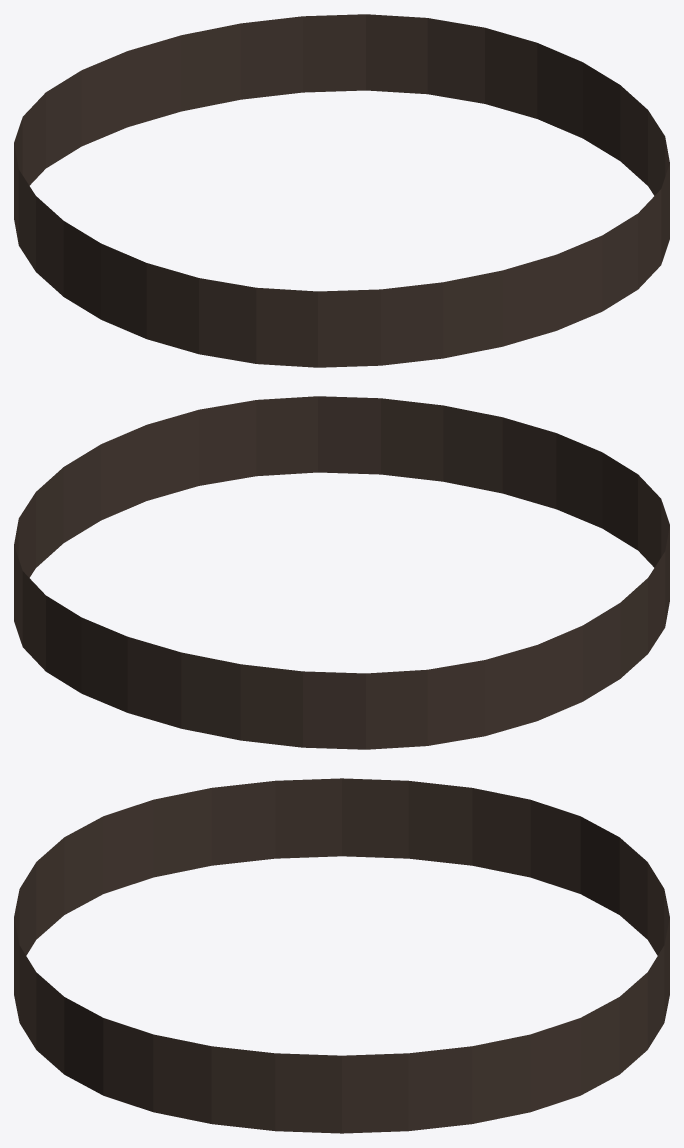
The model's file is fov_limiter2.fbx.
3 renders of one model, top to bottom at view 1: azimuth 30°, elevation 25°; view 2: azimuth 150°, elevation 25°; view 3: azimuth 270°, elevation 25°, orthographic. The views are drawn at different scales.
Parts seen in each view (by area): view 1: Cube.003; view 2: Cube.003; view 3: Cube.003.
Part boxes in pixels (x1,y1,x2,y2): Cube.003: (14,14,669,367); Cube.003: (14,396,669,749); Cube.003: (14,778,669,1133).
Size of the model in its own units: 54449 by 7134 by 54449.
